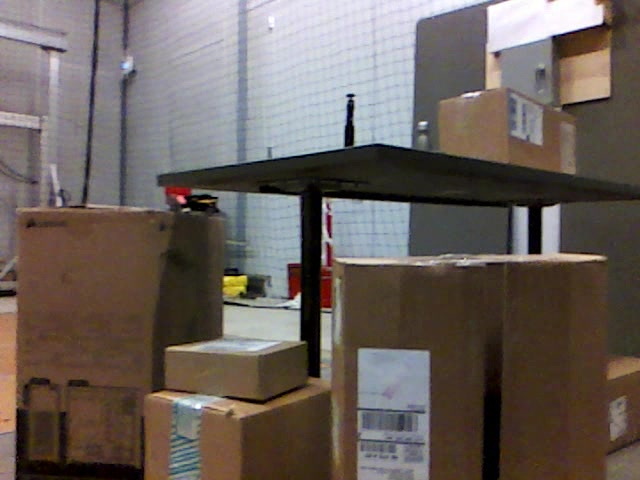box: (335, 255, 606, 480), (17, 207, 222, 475), (144, 391, 331, 480), (435, 91, 579, 173), (164, 334, 308, 397), (605, 355, 640, 449)
